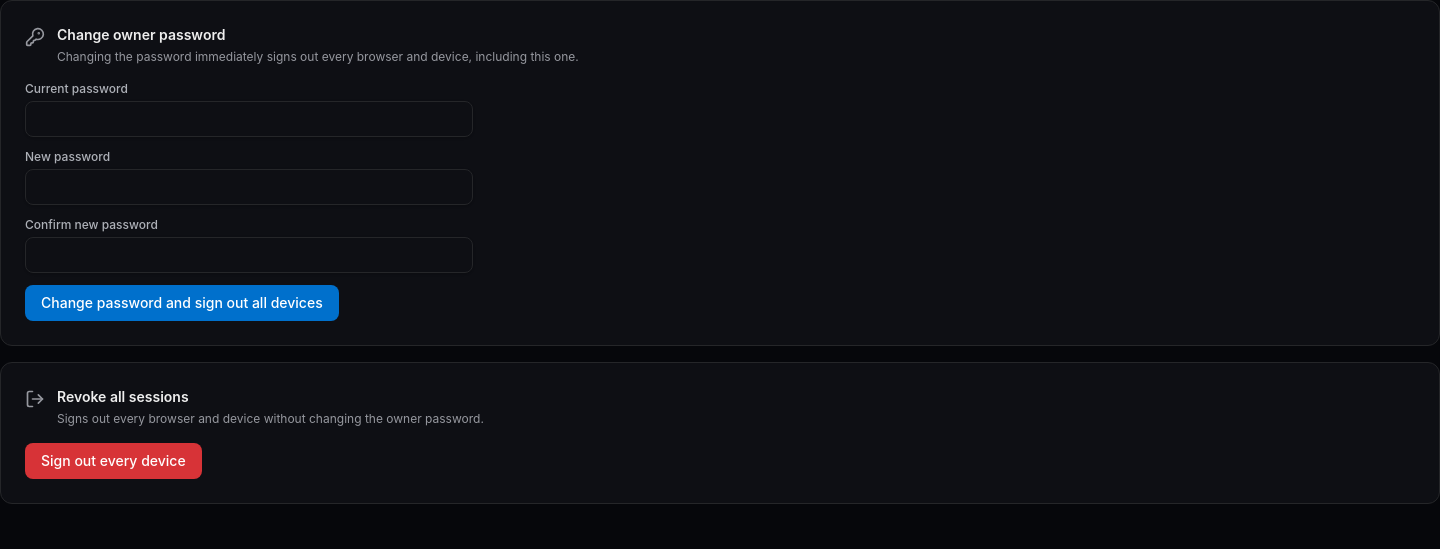
Test: SecuritySettings › uses a safe password-change error for non-Error failures
Type "current-owner-password" into the password field labelled "Current password" at (249, 119), box [25,101,473,137]
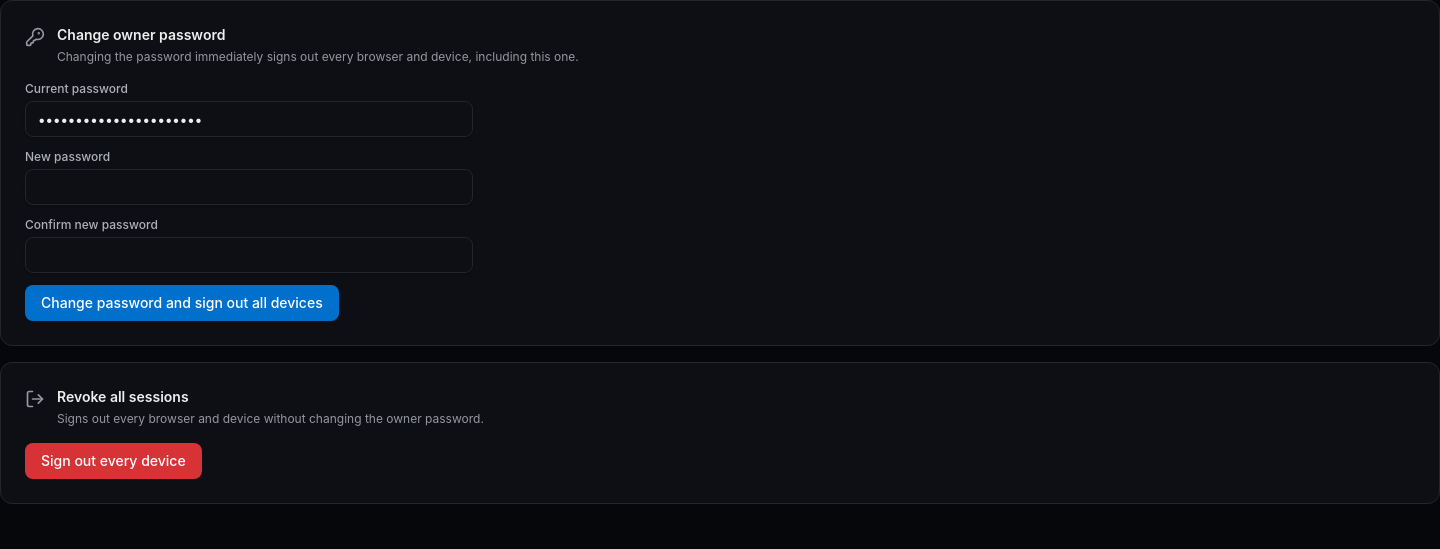
Type "a-new-owner-password" into the password field labelled "New password" at (249, 187), box [25,169,473,205]
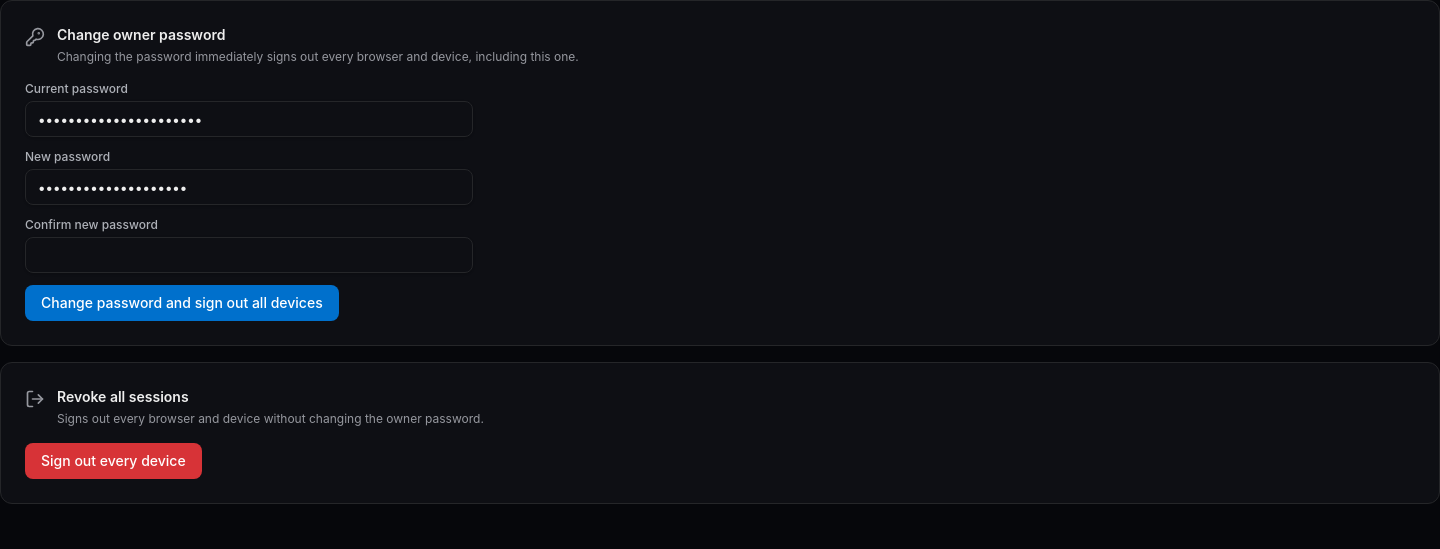
Type "a-new-owner-password" into the password field labelled "Confirm new password" at (249, 255), box [25,237,473,273]
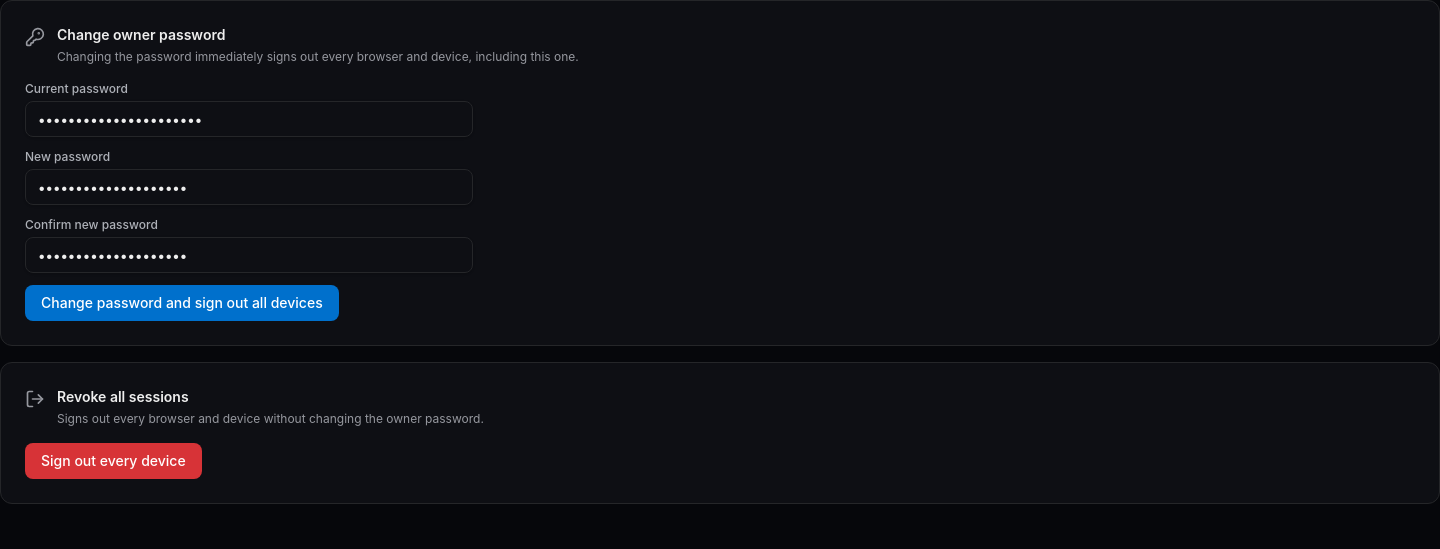
Click the button "Change password and sign out all devices" at (182, 303), box [25,285,339,321]
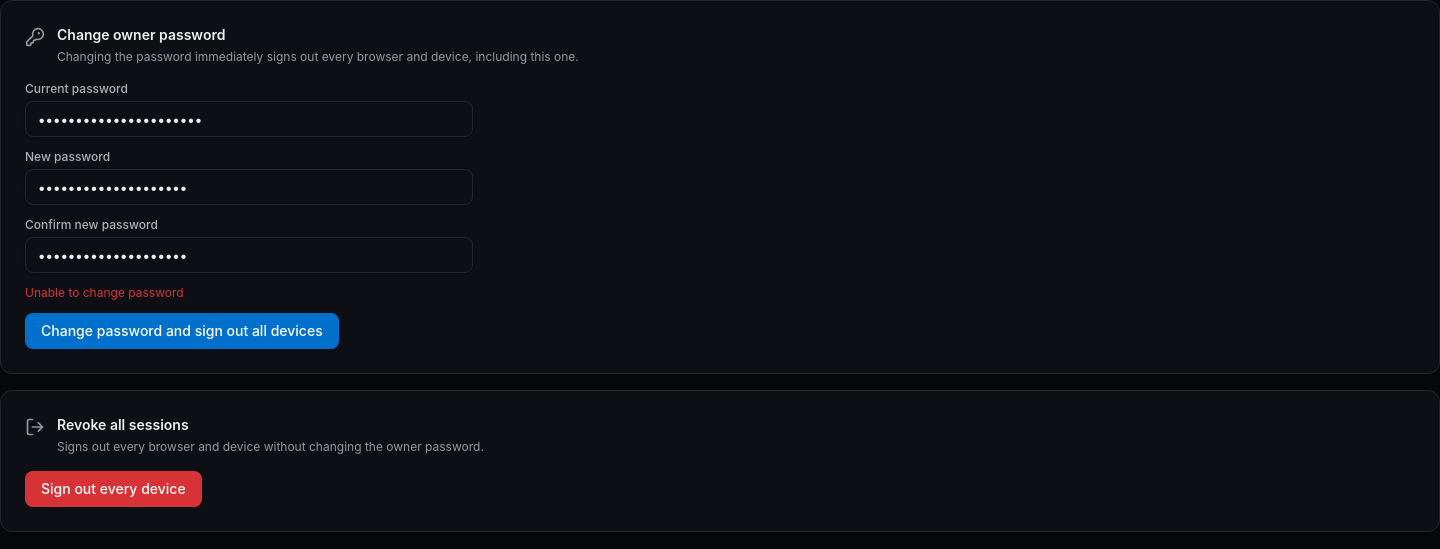
Expected: the message does not show "do not expose", [25,285,184,300]
Expected: the message reads "Unable to change password", [25,285,184,300]
